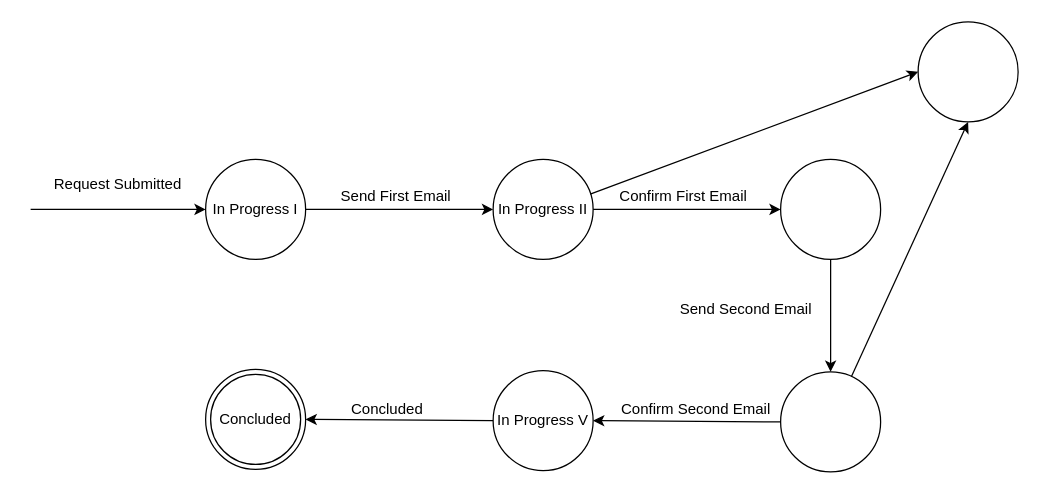
The diagram is 1040 pixels wide and 494 high, and some of its shapes have lost their labels. The box of each missing label's shape, as (x1, y1, x2, y2) in pixels:
Cancelled (Dead State): (917, 21, 1018, 122)
In Progress III: (779, 158, 881, 259)
In Progress IV: (779, 371, 881, 472)
